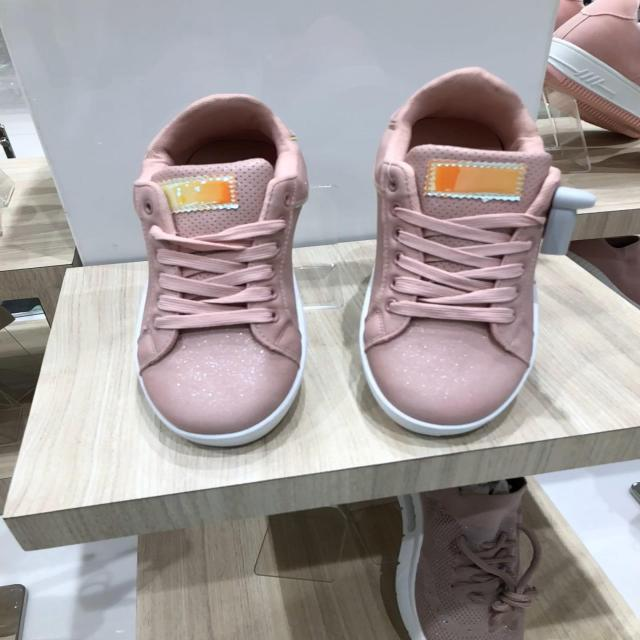shoe: (360, 69, 562, 441), (132, 94, 310, 449)
